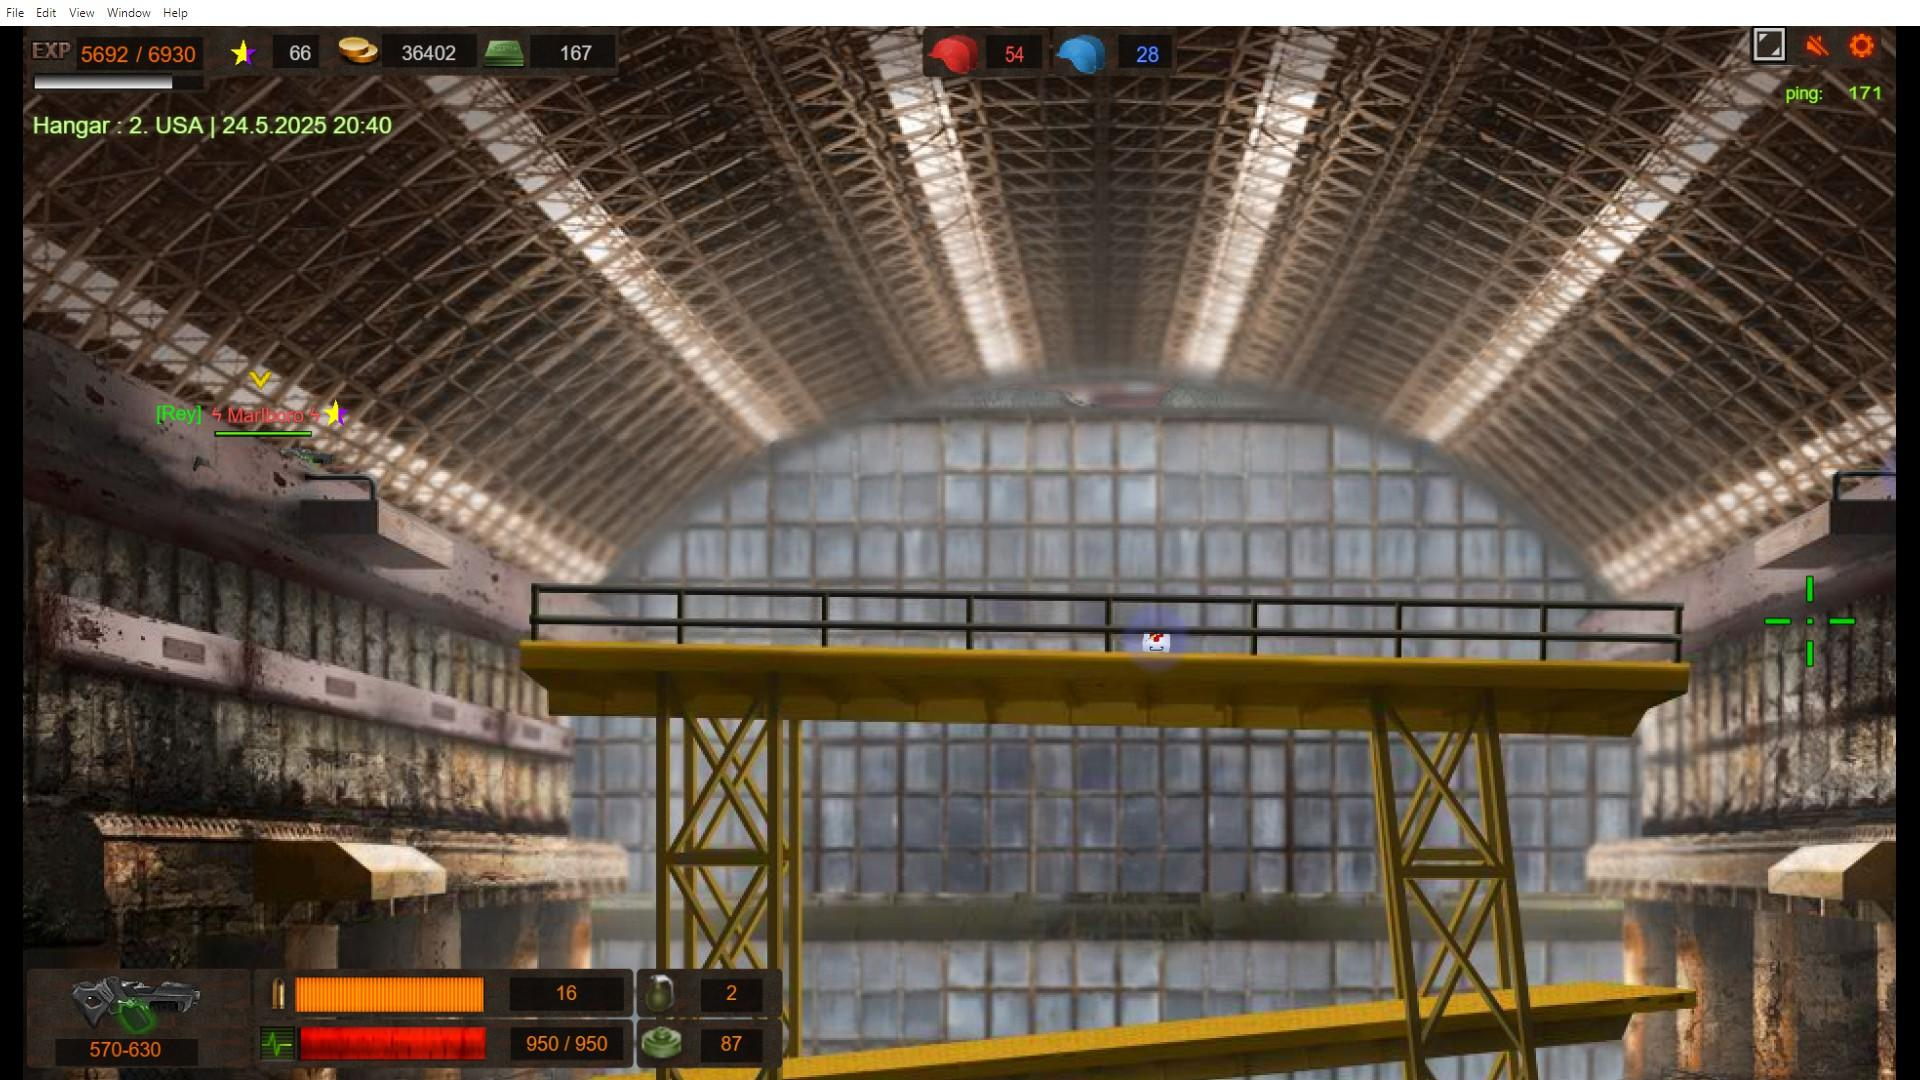enemy: (190, 443, 291, 471)
